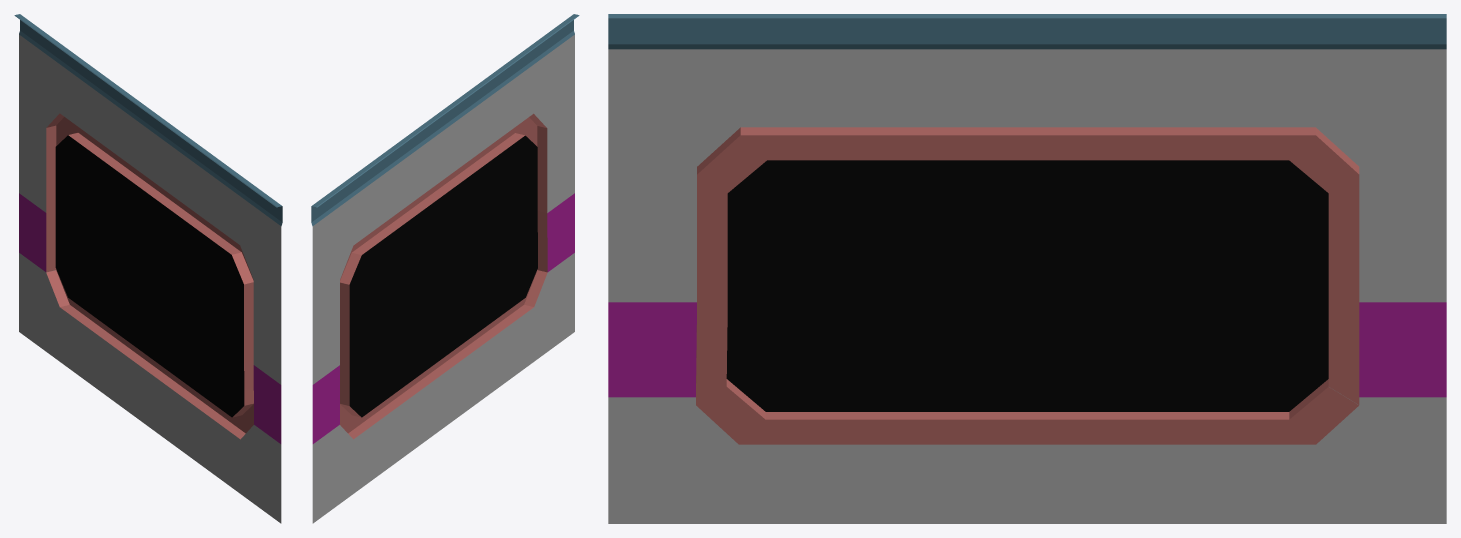
File: SM_WideWindowOut.fbx
3 renders of one model, left to right at view 1: azimuth 30°, elevation 25°; view 2: azimuth 150°, elevation 25°; view 3: azimuth 270°, elevation 25°, orthographic. The views are drawn at different scales.
Visible parts, largest first — view 1: SM_WideWindowOut; view 2: SM_WideWindowOut; view 3: SM_WideWindowOut.
Boxes of the visible parts, <box> form: SM_WideWindowOut: <box>14,14,282,523</box>; SM_WideWindowOut: <box>311,14,579,523</box>; SM_WideWindowOut: <box>608,14,1446,523</box>.
Size of the model in its own units: 19.25 by 401 by 600.
